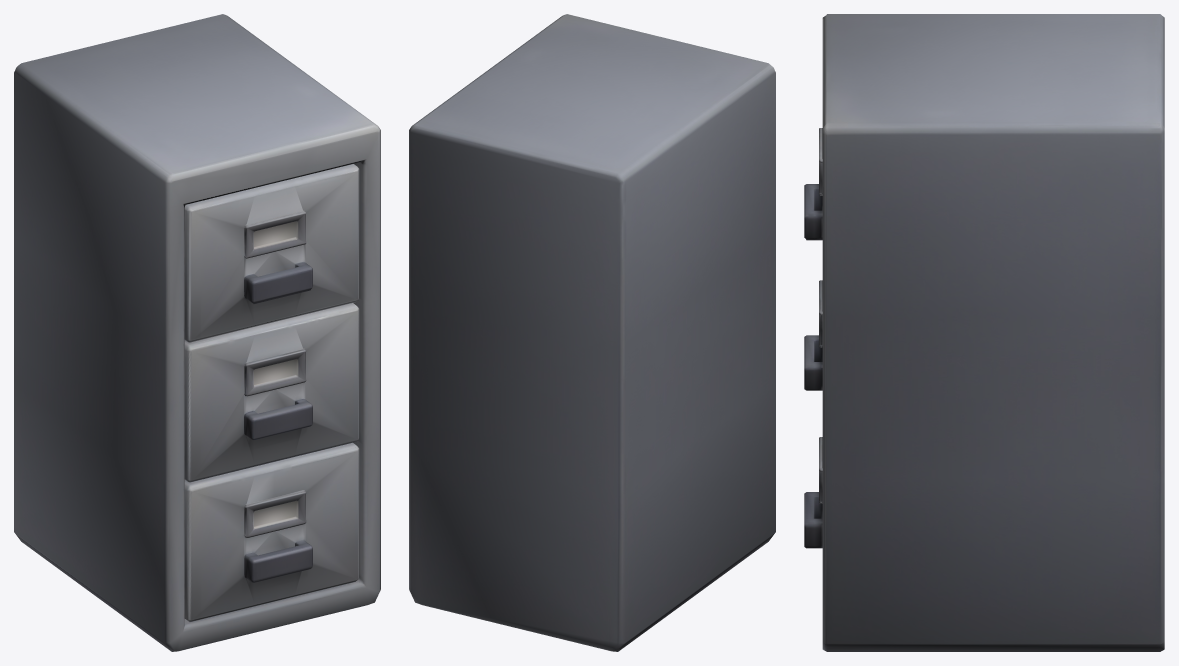
Rendered from cabinet.glb.
3 renders of one model, left to right at view 1: azimuth 30°, elevation 25°; view 2: azimuth 150°, elevation 25°; view 3: azimuth 270°, elevation 25°, orthographic. The views are drawn at different scales.
Visible parts, largest first — view 1: tripo_node_9bb1920c-9f9b-4fb2-83c9-9870cdc4dac9; view 2: tripo_node_9bb1920c-9f9b-4fb2-83c9-9870cdc4dac9; view 3: tripo_node_9bb1920c-9f9b-4fb2-83c9-9870cdc4dac9.
Part boxes in pixels (x1,y1,x2,y2): tripo_node_9bb1920c-9f9b-4fb2-83c9-9870cdc4dac9: (14, 14, 380, 651); tripo_node_9bb1920c-9f9b-4fb2-83c9-9870cdc4dac9: (409, 14, 775, 651); tripo_node_9bb1920c-9f9b-4fb2-83c9-9870cdc4dac9: (804, 14, 1164, 651).
Bounding box in the file's own units: 0.4707 × 0.998 × 0.6152.
1 material, 1 textured.
